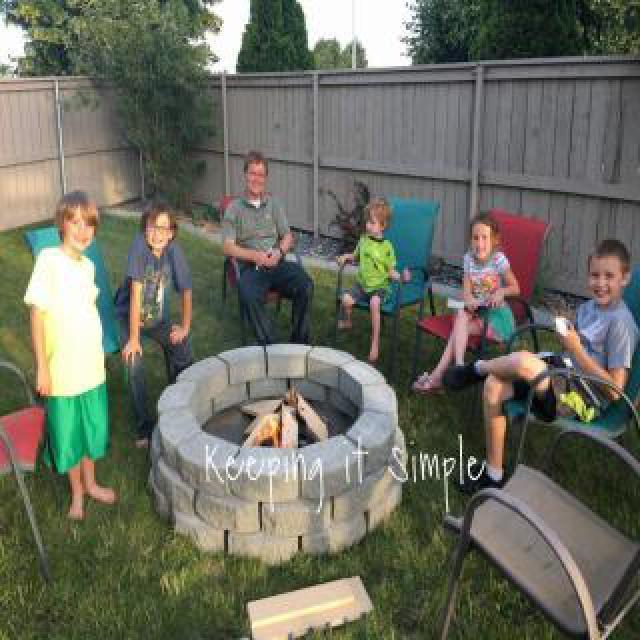Fire: (244, 392, 284, 450)
